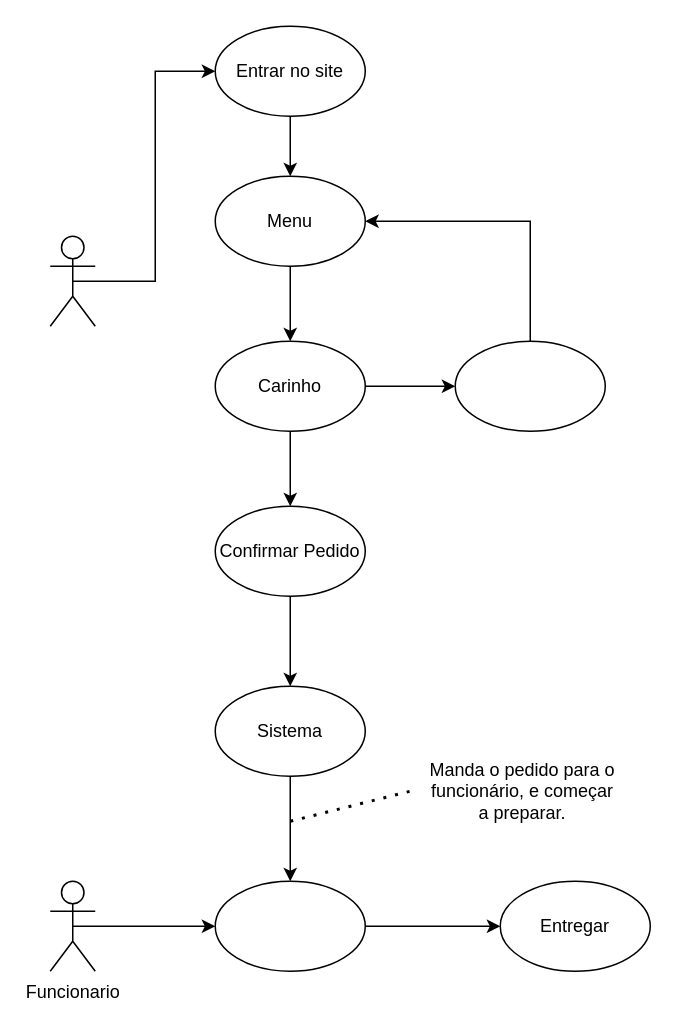
This 677x1029 diagram has some shape labels left out. Each missing label, with the centre of its shape:
"Adicionar" belongs at point (529, 385).
"Cliente" belongs at point (72, 280).
"Preparar Pedido" belongs at point (289, 925).
